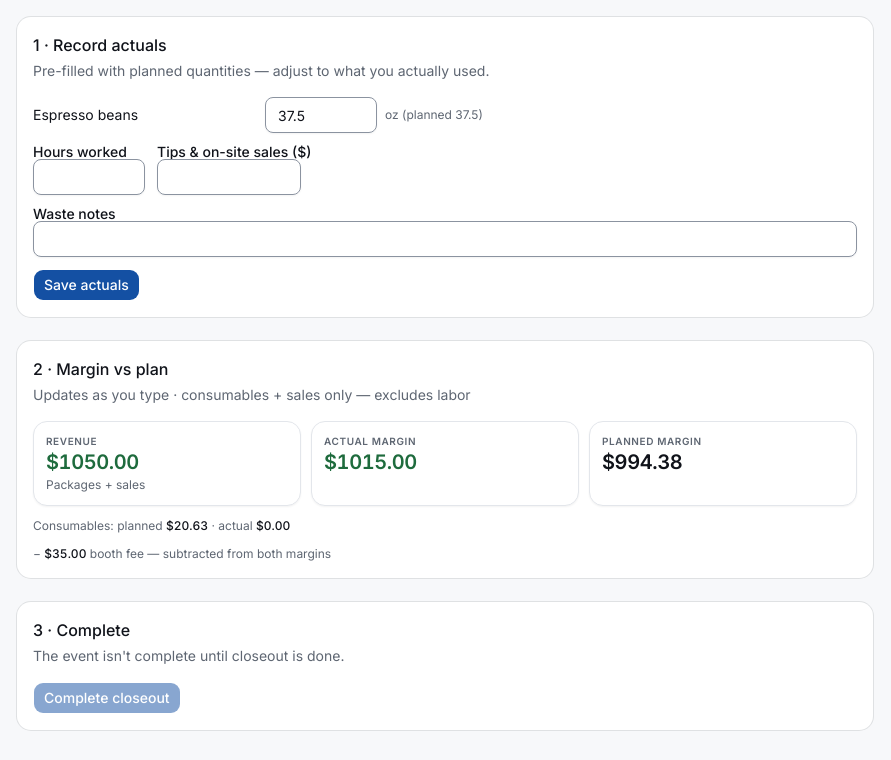
Test: CloseoutClient booth fee › threads boothFee through the live recompute so live and saved figures agree
Step 1. Type "150" into the number field labelled "Tips & on-site sales ($)" → (229, 177), box [157,159,301,195]
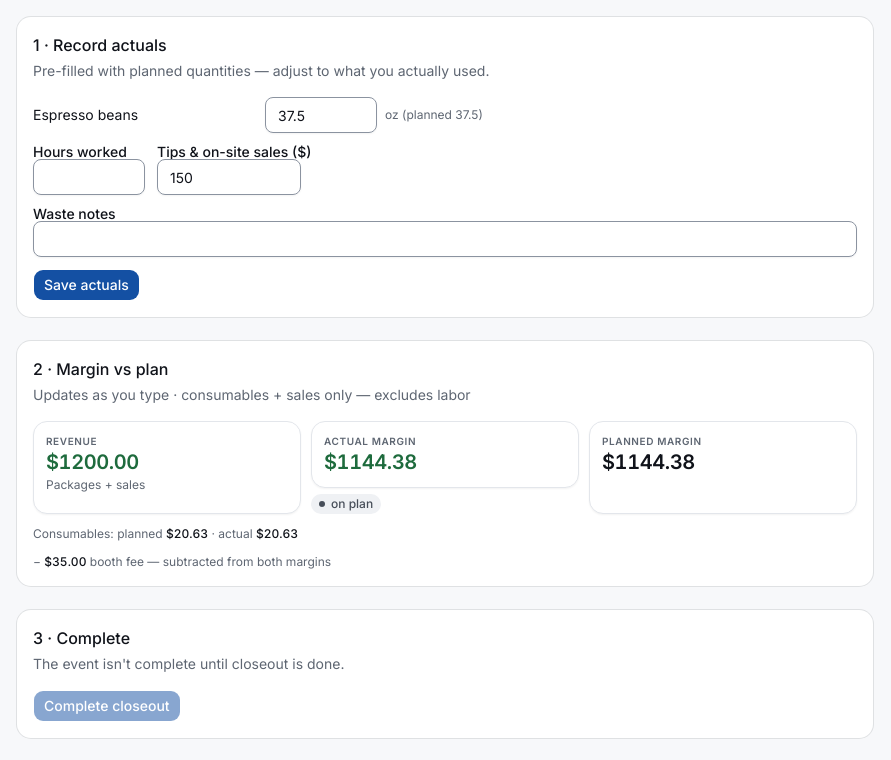
Step 2. Replace the text in the number field named "Actual Espresso beans used" with "30" → (321, 115), box [265,97,377,133]
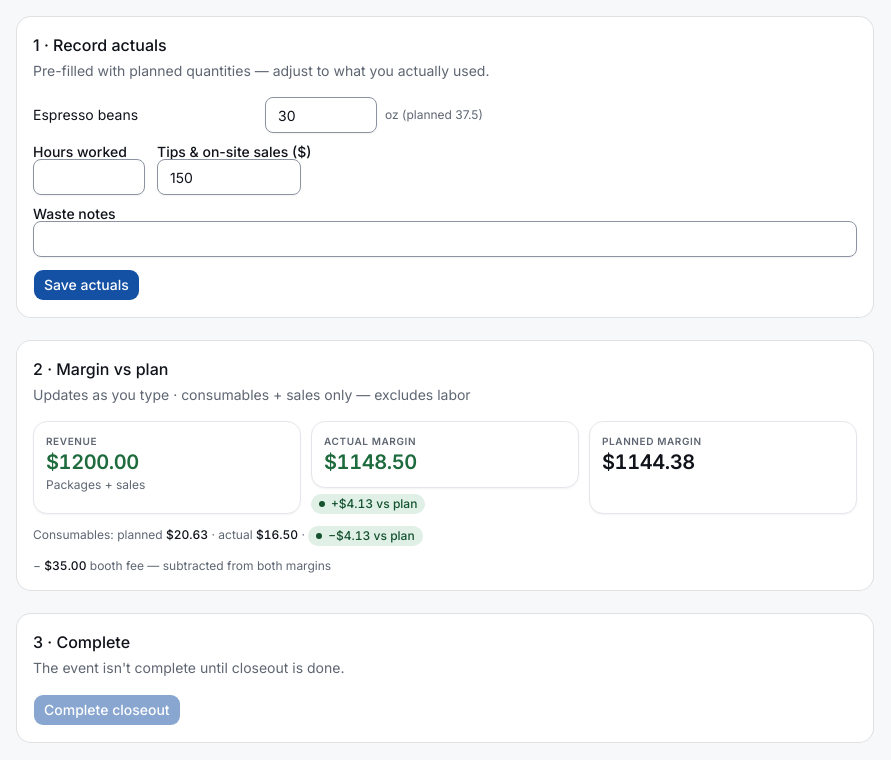
Expected: the text "$35.00" is shown, [44,558,86,573]
Expected: the text "$1144.38" is shown, [602,450,695,474]
Expected: the text "$1148.50" is shown, [324,450,417,474]
